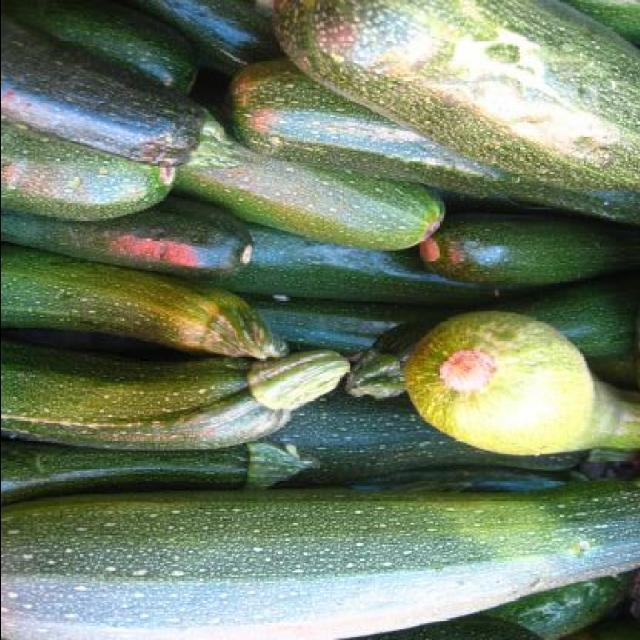Zucchini: (2, 0, 640, 484), (2, 474, 640, 640)
